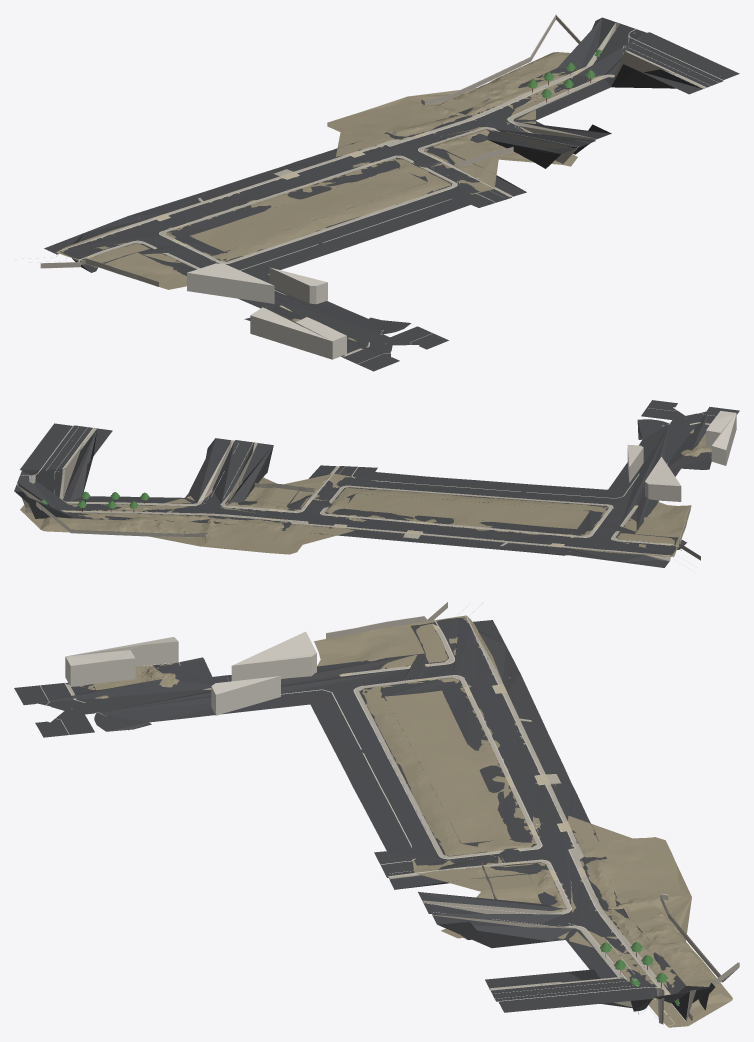
The model's file is entorno_topo.dae.
3 renders of one model, top to bottom at view 1: azimuth 30°, elevation 25°; view 2: azimuth 150°, elevation 25°; view 3: azimuth 270°, elevation 25°, orthographic. The views are drawn at different scales.
Visible parts, largest first — view 1: asfalto, terreno, edificacion, acera, bordillo, muro, podotactil; view 2: asfalto, terreno, acera, edificacion, bordillo, muro, podotactil, copa; view 3: asfalto, terreno, edificacion, acera, bordillo, muro, podotactil.
Part boxes in pixels (x1,y1,x2,y2): asfalto: (44, 17, 739, 371); terreno: (56, 52, 601, 341); edificacion: (187, 263, 346, 359); acera: (56, 22, 705, 355); bordillo: (59, 23, 722, 363); muro: (40, 14, 593, 286); podotactil: (78, 69, 604, 311); asfalto: (14, 400, 739, 567); terreno: (20, 429, 711, 556); acera: (16, 422, 710, 561); edificacion: (627, 411, 736, 501); bordillo: (20, 408, 715, 555); muro: (25, 482, 700, 560); podotactil: (66, 463, 680, 549); copa: (41, 491, 149, 508); asfalto: (14, 617, 715, 1020); terreno: (75, 615, 732, 1027); edificacion: (65, 631, 316, 715); acera: (66, 629, 696, 1018); bordillo: (39, 617, 691, 1024); muro: (326, 602, 739, 1020); podotactil: (203, 621, 670, 995).
Size of the model in its own units: 293 by 219 by 20.27.
